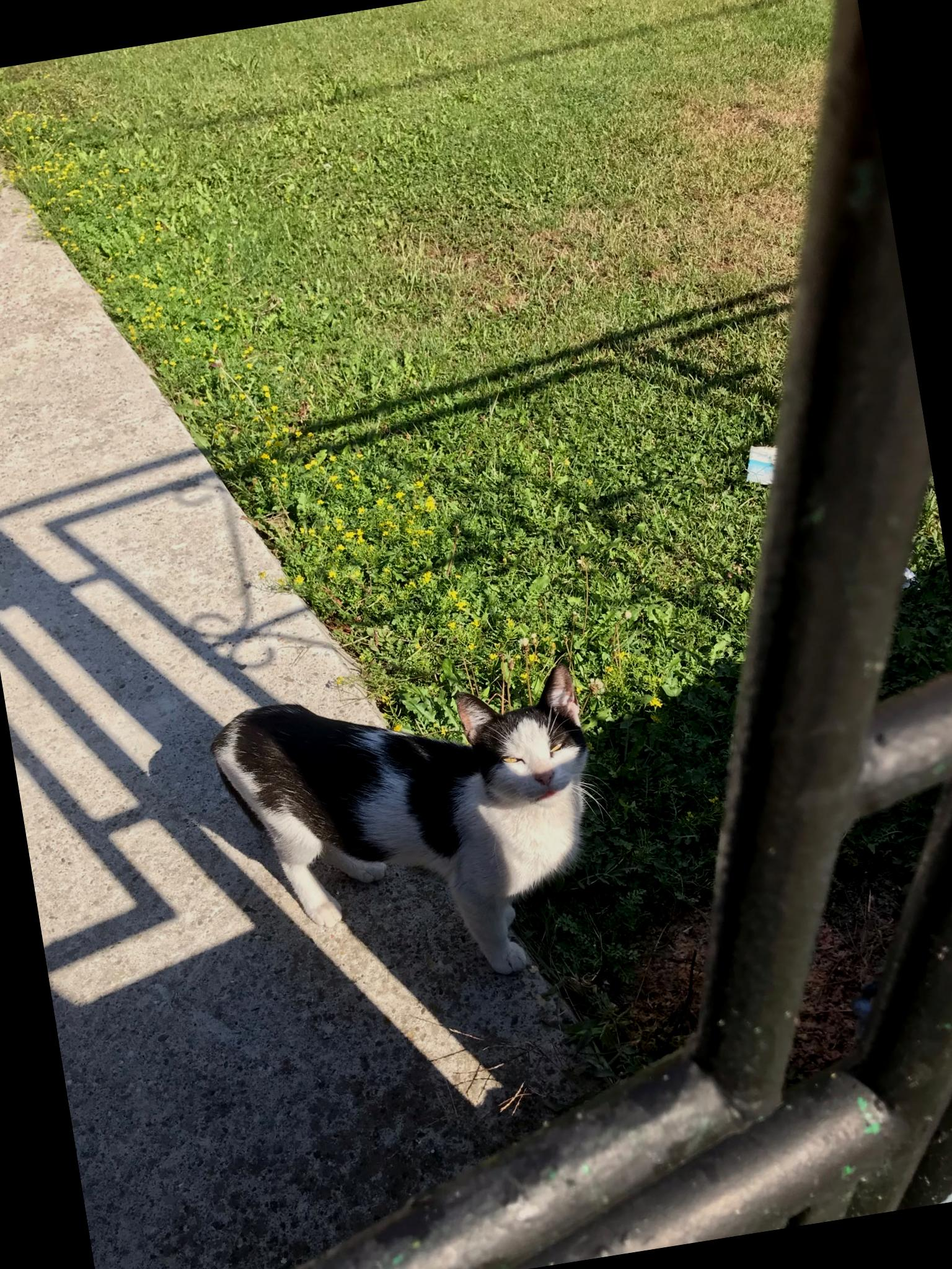macka: (202, 655, 622, 1013)
